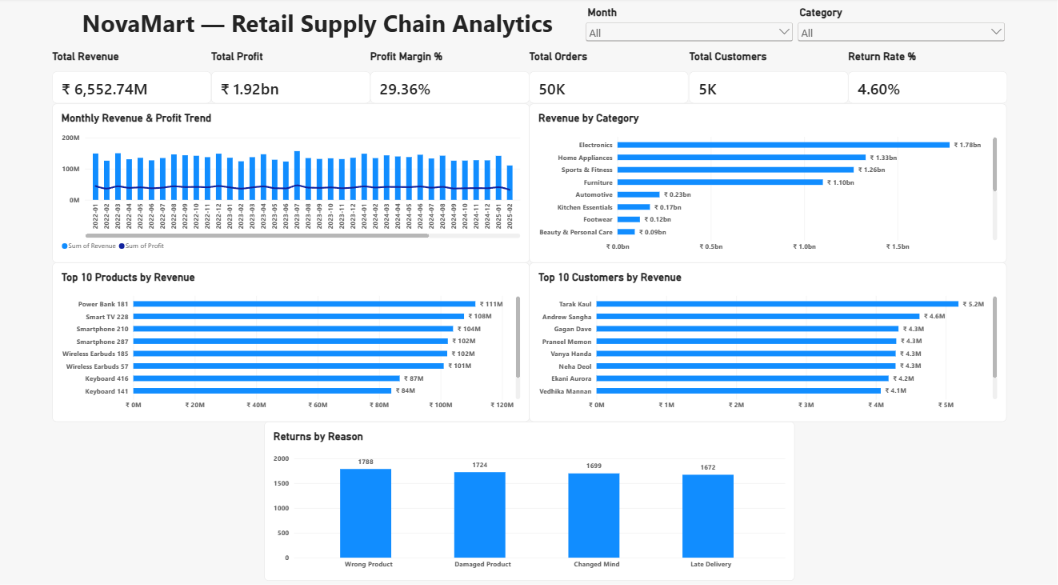

This screenshot's page, from the dashboard's own definition file:
{"tool":"powerbi","page":{"name":"Executive Overview","canvas":[1920,1080],"ordinal":0},"visuals":[{"type":"cardVisual","title":"Total Revenue","fields":{"Data":["Monthly.Total Revenue"]},"box":[96,96,288,96],"z":0},{"type":"cardVisual","title":"Total Profit","fields":{"Data":["Monthly.Total Profit"]},"box":[384,96,288,96],"z":1000},{"type":"cardVisual","title":"Profit Margin %","fields":{"Data":["Monthly.Profit Margin %"]},"box":[672,96,288,96],"z":2000},{"type":"cardVisual","title":"Total Orders","fields":{"Data":["Monthly.Total Orders"]},"box":[960,96,288,96],"z":3000},{"type":"cardVisual","title":"Total Customers","fields":{"Data":["Customer.Total Customers"]},"box":[1248,96,288,96],"z":4000},{"type":"cardVisual","title":"Return Rate %","fields":{"Data":["Returns.Return Rate %"]},"box":[1536,96,288,96],"z":5000},{"type":"lineClusteredColumnComboChart","title":"Monthly Revenue & Profit Trend","fields":{"Category":["Monthly.Month"],"Y":["Sum(Monthly.Revenue)"],"Y2":["Sum(Monthly.Profit)"]},"box":[96,192,864,288],"z":6000},{"type":"clusteredBarChart","title":"Revenue by Category","fields":{"Category":["vw_fact_sales.Category_Name"],"Y":["Sum(vw_fact_sales.Revenue)"]},"box":[960,192,864,288],"z":7000},{"type":"clusteredBarChart","title":"Top 10 Products by Revenue","fields":{"Category":["vw_fact_sales.Product_Name"],"Y":["Sum(vw_fact_sales.Revenue)"]},"box":[96,480,864,288],"z":8000},{"type":"barChart","title":"Top 10 Customers by Revenue","fields":{"Category":["vw_fact_sales.Customer_Name"],"Y":["Sum(vw_fact_sales.Revenue)"]},"box":[960,480,864,288],"z":9000},{"type":"clusteredColumnChart","title":"Returns by Reason","fields":{"Category":["vw_fact_sales.Return_Reason"],"Y":["Sum(vw_fact_sales.Is_Returned)"]},"box":[480,768,960,288],"z":10000},{"type":"slicer","fields":{"Values":["Monthly.Month"]},"box":[1056,16,384,80],"z":12000},{"type":"slicer","fields":{"Values":["Category.Category_Name"]},"box":[1440,16,384,80],"z":13000},{"type":"textbox","box":[96,16,960,80],"z":15000}]}

Visuals, with their boxes in screenshot pixels (x1, y1, x2, y2), scaled from the page's 1920x1080 canvas onto the 1058x585 screenshot:
"Total Revenue" cardVisual: [x1=53, y1=52, x2=212, y2=104]
"Total Profit" cardVisual: [x1=212, y1=52, x2=370, y2=104]
"Profit Margin %" cardVisual: [x1=370, y1=52, x2=529, y2=104]
"Total Orders" cardVisual: [x1=529, y1=52, x2=688, y2=104]
"Total Customers" cardVisual: [x1=688, y1=52, x2=846, y2=104]
"Return Rate %" cardVisual: [x1=846, y1=52, x2=1005, y2=104]
"Monthly Revenue & Profit Trend" lineClusteredColumnComboChart: [x1=53, y1=104, x2=529, y2=260]
"Revenue by Category" clusteredBarChart: [x1=529, y1=104, x2=1005, y2=260]
"Top 10 Products by Revenue" clusteredBarChart: [x1=53, y1=260, x2=529, y2=416]
"Top 10 Customers by Revenue" barChart: [x1=529, y1=260, x2=1005, y2=416]
"Returns by Reason" clusteredColumnChart: [x1=264, y1=416, x2=794, y2=572]
slicer - Monthly.Month: [x1=582, y1=9, x2=794, y2=52]
slicer - Category.Category_Name: [x1=794, y1=9, x2=1005, y2=52]
textbox: [x1=53, y1=9, x2=582, y2=52]
